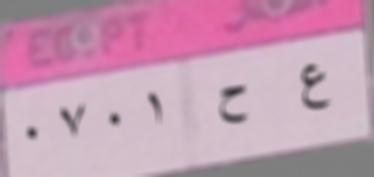0: (104, 107, 128, 133), (23, 120, 43, 144)
1: (146, 85, 166, 132)
7: (58, 99, 88, 142)
7aa: (210, 80, 254, 122)
ain: (294, 61, 333, 118)
